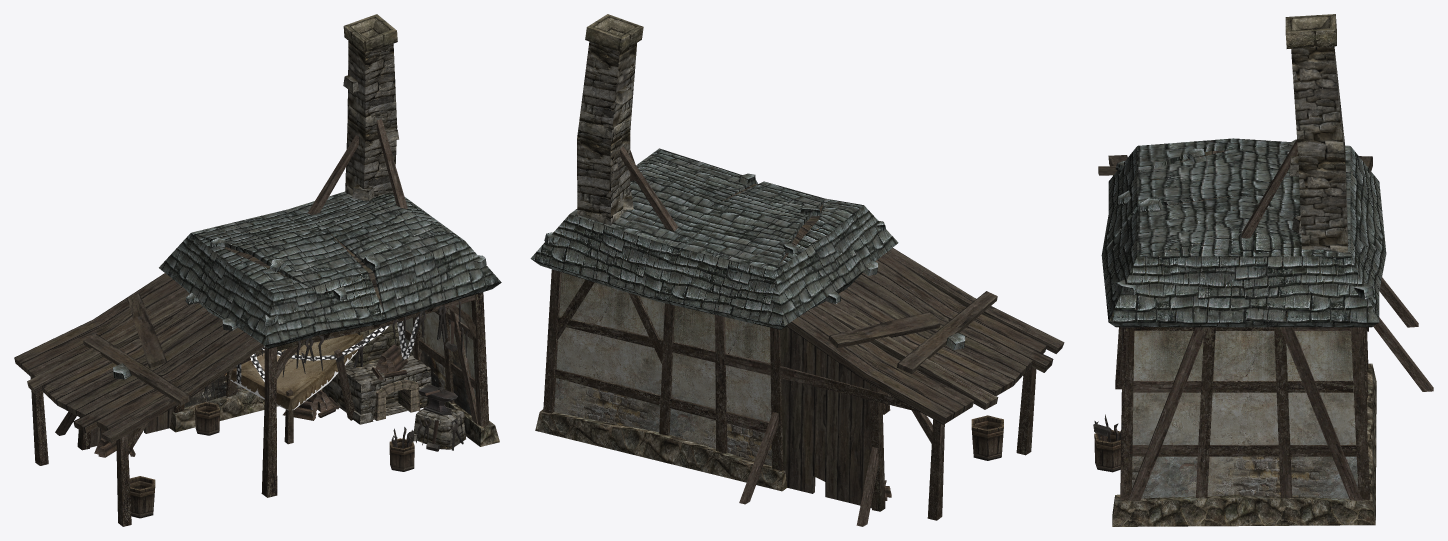
The model's file is Blacksmith.FBX.
The picture shows the model from 3 angles, left to right: view 1: azimuth 30°, elevation 25°; view 2: azimuth 150°, elevation 25°; view 3: azimuth 270°, elevation 25°; orthographic projection. The views are drawn at different scales.
Parts seen in each view (by area): view 1: GY_WD_lanzhuan001_smy, GY_MT_muban005_smy, GY_MT_muban004_smy, GY_Q_shizhuan005_smy, GY_XWJ_xiaowujian005_smy, GY_B_pengbu001_smy, GY_Q_baihuiqiang001_smy, GY_Q_shitou004_smy, GY_Q_shizhuan004_smy, GY_MC_menchuang002_smy; view 2: GY_WD_lanzhuan001_smy, GY_MT_muban005_smy, GY_Q_baihuiqiang002_smy, GY_MT_muban004_smy, GY_Q_shizhuan005_smy, GY_Q_shitou004_smy, GY_Q_shizhuan004_smy, GY_XWJ_xiaowujian005_smy; view 3: GY_WD_lanzhuan001_smy, GY_Q_baihuiqiang002_smy, GY_MT_muban004_smy, GY_Q_shizhuan005_smy, GY_Q_shitou004_smy, GY_Q_shizhuan004_smy, GY_XWJ_xiaowujian005_smy, GY_MT_muban005_smy.
Boxes of the visible parts, left/top/right/bottom form: GY_WD_lanzhuan001_smy: left=113, top=191, right=501, bottom=379; GY_MT_muban005_smy: left=14, top=233, right=383, bottom=447; GY_MT_muban004_smy: left=30, top=119, right=489, bottom=526; GY_Q_shizhuan005_smy: left=322, top=41, right=465, bottom=449; GY_XWJ_xiaowujian005_smy: left=94, top=301, right=467, bottom=518; GY_B_pengbu001_smy: left=230, top=333, right=363, bottom=410; GY_Q_baihuiqiang001_smy: left=184, top=301, right=475, bottom=415; GY_Q_shitou004_smy: left=169, top=389, right=499, bottom=446; GY_Q_shizhuan004_smy: left=343, top=14, right=399, bottom=365; GY_MC_menchuang002_smy: left=374, top=379, right=420, bottom=420; GY_WD_lanzhuan001_smy: left=530, top=148, right=965, bottom=349; GY_MT_muban005_smy: left=720, top=183, right=1064, bottom=508; GY_Q_baihuiqiang002_smy: left=554, top=272, right=771, bottom=466; GY_MT_muban004_smy: left=543, top=147, right=1036, bottom=526; GY_Q_shizhuan005_smy: left=577, top=41, right=636, bottom=225; GY_Q_shitou004_smy: left=535, top=409, right=787, bottom=491; GY_Q_shizhuan004_smy: left=585, top=14, right=643, bottom=52; GY_XWJ_xiaowujian005_smy: left=884, top=415, right=1003, bottom=500; GY_WD_lanzhuan001_smy: left=1101, top=138, right=1386, bottom=327; GY_Q_baihuiqiang002_smy: left=1132, top=330, right=1357, bottom=498; GY_MT_muban004_smy: left=1115, top=139, right=1433, bottom=500; GY_Q_shizhuan005_smy: left=1289, top=46, right=1347, bottom=252; GY_Q_shitou004_smy: left=1112, top=363, right=1376, bottom=526; GY_Q_shizhuan004_smy: left=1285, top=14, right=1336, bottom=48; GY_XWJ_xiaowujian005_smy: left=1093, top=327, right=1122, bottom=472; GY_MT_muban005_smy: left=1098, top=150, right=1372, bottom=205.
Bounding box in the file's own units: 1089 × 970 × 628.
